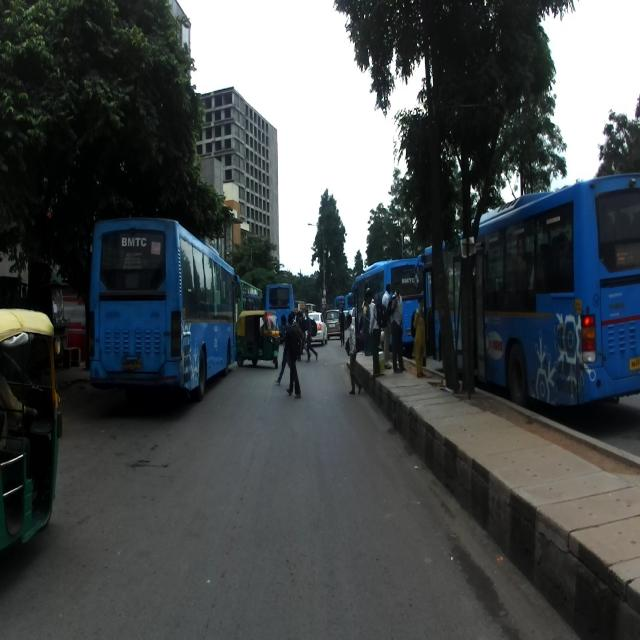autorickshaw: (0, 306, 62, 549), (235, 308, 281, 369)
bus: (414, 172, 638, 412), (89, 214, 241, 401)
